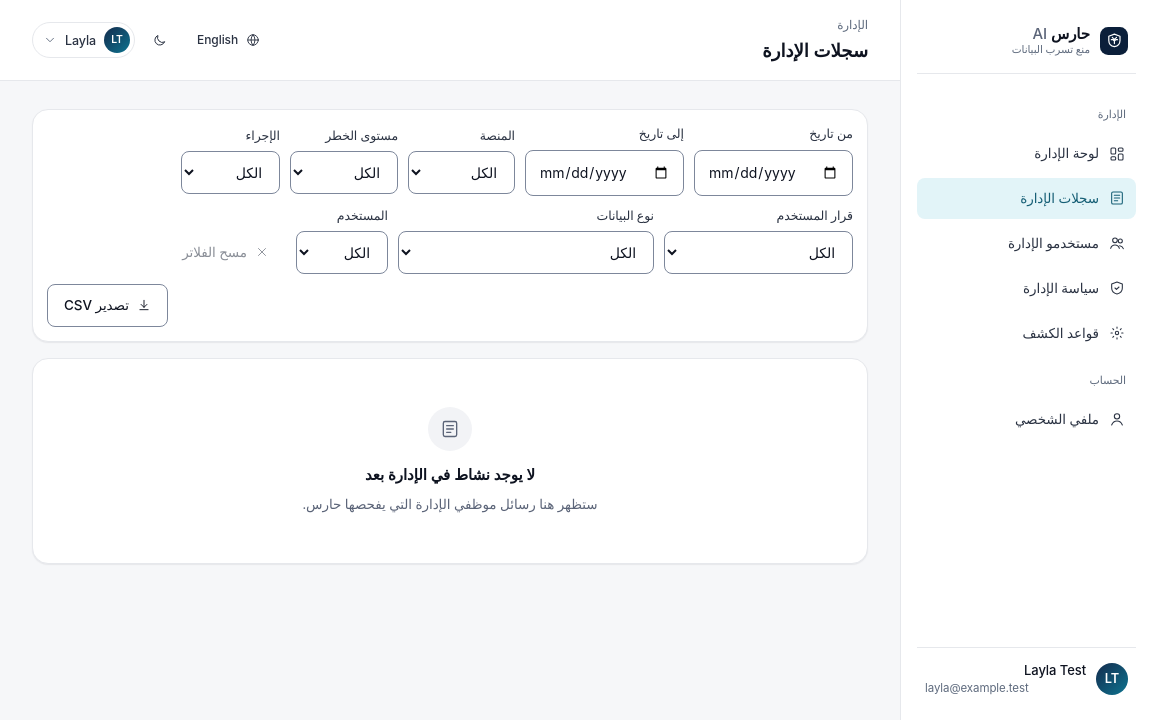
department logs › a chosen user can be cleared again, and no match says "no results" rather than "no events yet"
Expected: the text "لا يوجد نشاط في الإدارة بعد" is shown, [365,463,535,486]
Select "Staff 1" in the dropdown labelled "المستخدم". click: (342, 252)
box: [296,231,388,274]
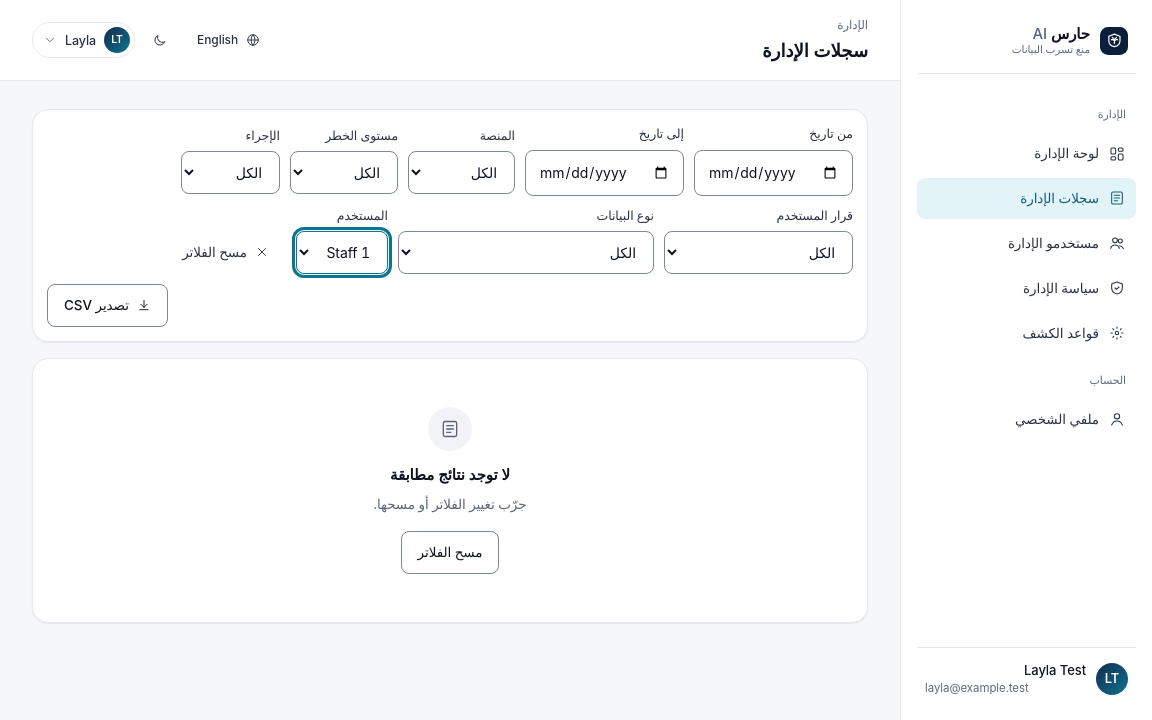
Expected: the text "لا توجد نتائج مطابقة" is shown, [390,463,510,486]
Click the button "مسح الفلاتر" below "المنصة". click: (226, 252)
box: [165,231,286,274]
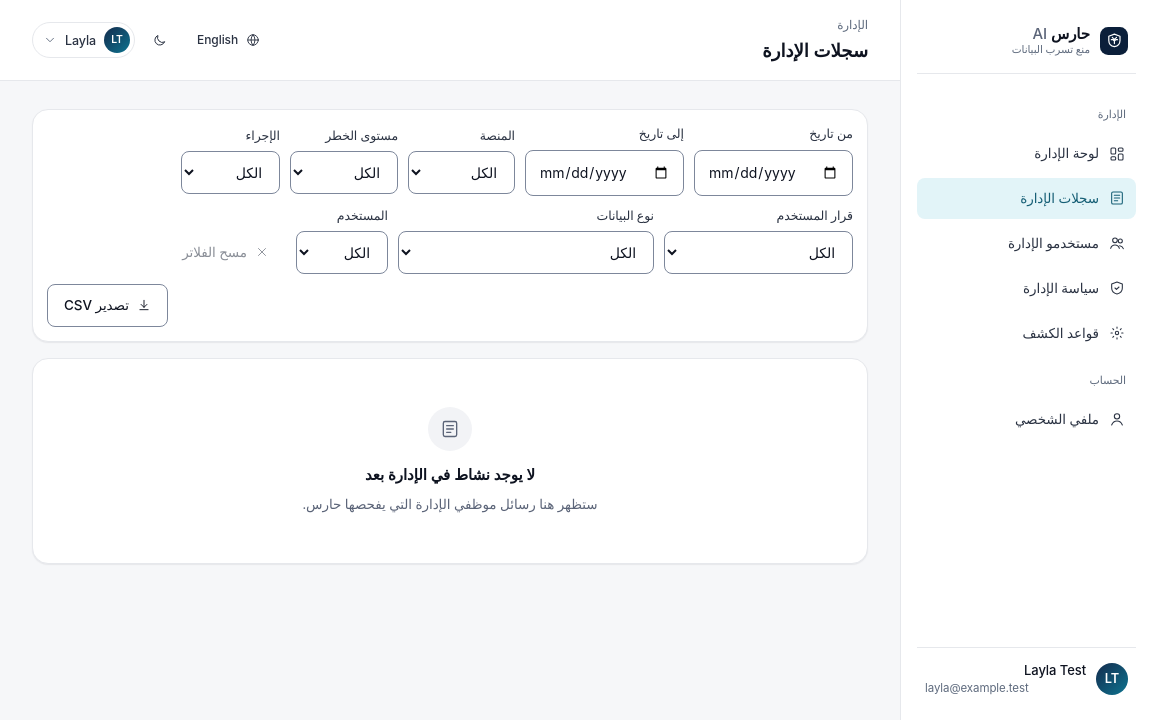
Expected: the text "لا يوجد نشاط في الإدارة بعد" is shown, [365,463,535,486]
